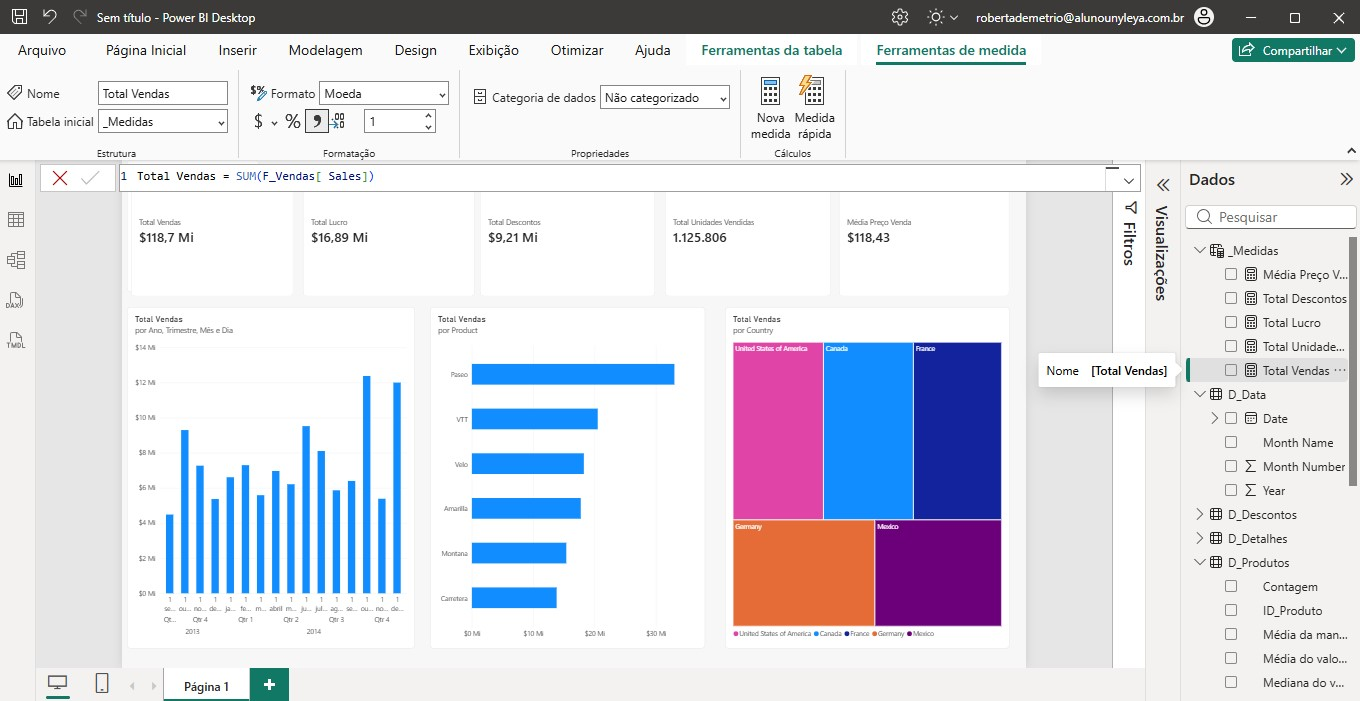

The dashboard page shown, as its layout file describes it:
{"tool":"powerbi","page":{"name":"Página 1","canvas":[1920,1080],"ordinal":0},"visuals":[{"type":"cardVisual","fields":{"Data":["_Medidas.Total Vendas"]},"box":[10,0,280,280],"z":0},{"type":"cardVisual","fields":{"Data":["_Medidas.Total Lucro"]},"box":[385.5,10.1,365.4,279.7],"z":1000},{"type":"cardVisual","fields":{"Data":["_Medidas.Total Descontos"]},"box":[760.9,10.1,372.9,279.7],"z":2000},{"type":"cardVisual","fields":{"Data":["_Medidas.Total Unidades Vendidas"]},"box":[1154,10.1,352.8,279.7],"z":3000},{"type":"cardVisual","fields":{"Data":["_Medidas.Total Vendas"]},"box":[20.2,10.1,345.2,279.7],"z":4000},{"type":"cardVisual","fields":{"Data":["_Medidas.Média Preço Venda"]},"box":[1524.4,10.1,362.8,279.7],"z":5000},{"type":"columnChart","fields":{"Category":["F_Vendas.Date.Variation.Hierarquia de datas.Ano","F_Vendas.Date.Variation.Hierarquia de datas.Trimestre","F_Vendas.Date.Variation.Hierarquia de datas.Mês","F_Vendas.Date.Variation.Hierarquia de datas.Dia"],"Y":["_Medidas.Total Vendas"]},"box":[10.1,312.4,612.3,725.7],"z":5001},{"type":"clusteredBarChart","fields":{"Category":["D_Produtos.Product"],"Y":["_Medidas.Total Vendas"]},"box":[655.1,312.4,584.6,725.7],"z":5002},{"type":"treemap","fields":{"Group":["F_Vendas.Country"],"Values":["_Medidas.Total Vendas"]},"box":[1282.5,312.4,604.7,725.7],"z":5003}]}

Visuals, with their boxes on the page's 1920x1080 design canvas (x1, y1, x2, y2). These are canvas units, not pixel positions in the 1360x701 screenshot, which may show the page scaled, cropped or inside an application window:
cardVisual - _Medidas.Total Vendas: 10, 0, 290, 280
cardVisual - _Medidas.Total Lucro: 386, 10, 751, 290
cardVisual - _Medidas.Total Descontos: 761, 10, 1134, 290
cardVisual - _Medidas.Total Unidades Vendidas: 1154, 10, 1507, 290
cardVisual - _Medidas.Total Vendas: 20, 10, 365, 290
cardVisual - _Medidas.Média Preço Venda: 1524, 10, 1887, 290
columnChart - F_Vendas.Date.Variation.Hierarquia de datas.Ano x F_Vendas.Date.Variation.Hierarquia de datas.Trimestre: 10, 312, 622, 1038
clusteredBarChart - D_Produtos.Product x _Medidas.Total Vendas: 655, 312, 1240, 1038
treemap - F_Vendas.Country x _Medidas.Total Vendas: 1282, 312, 1887, 1038
